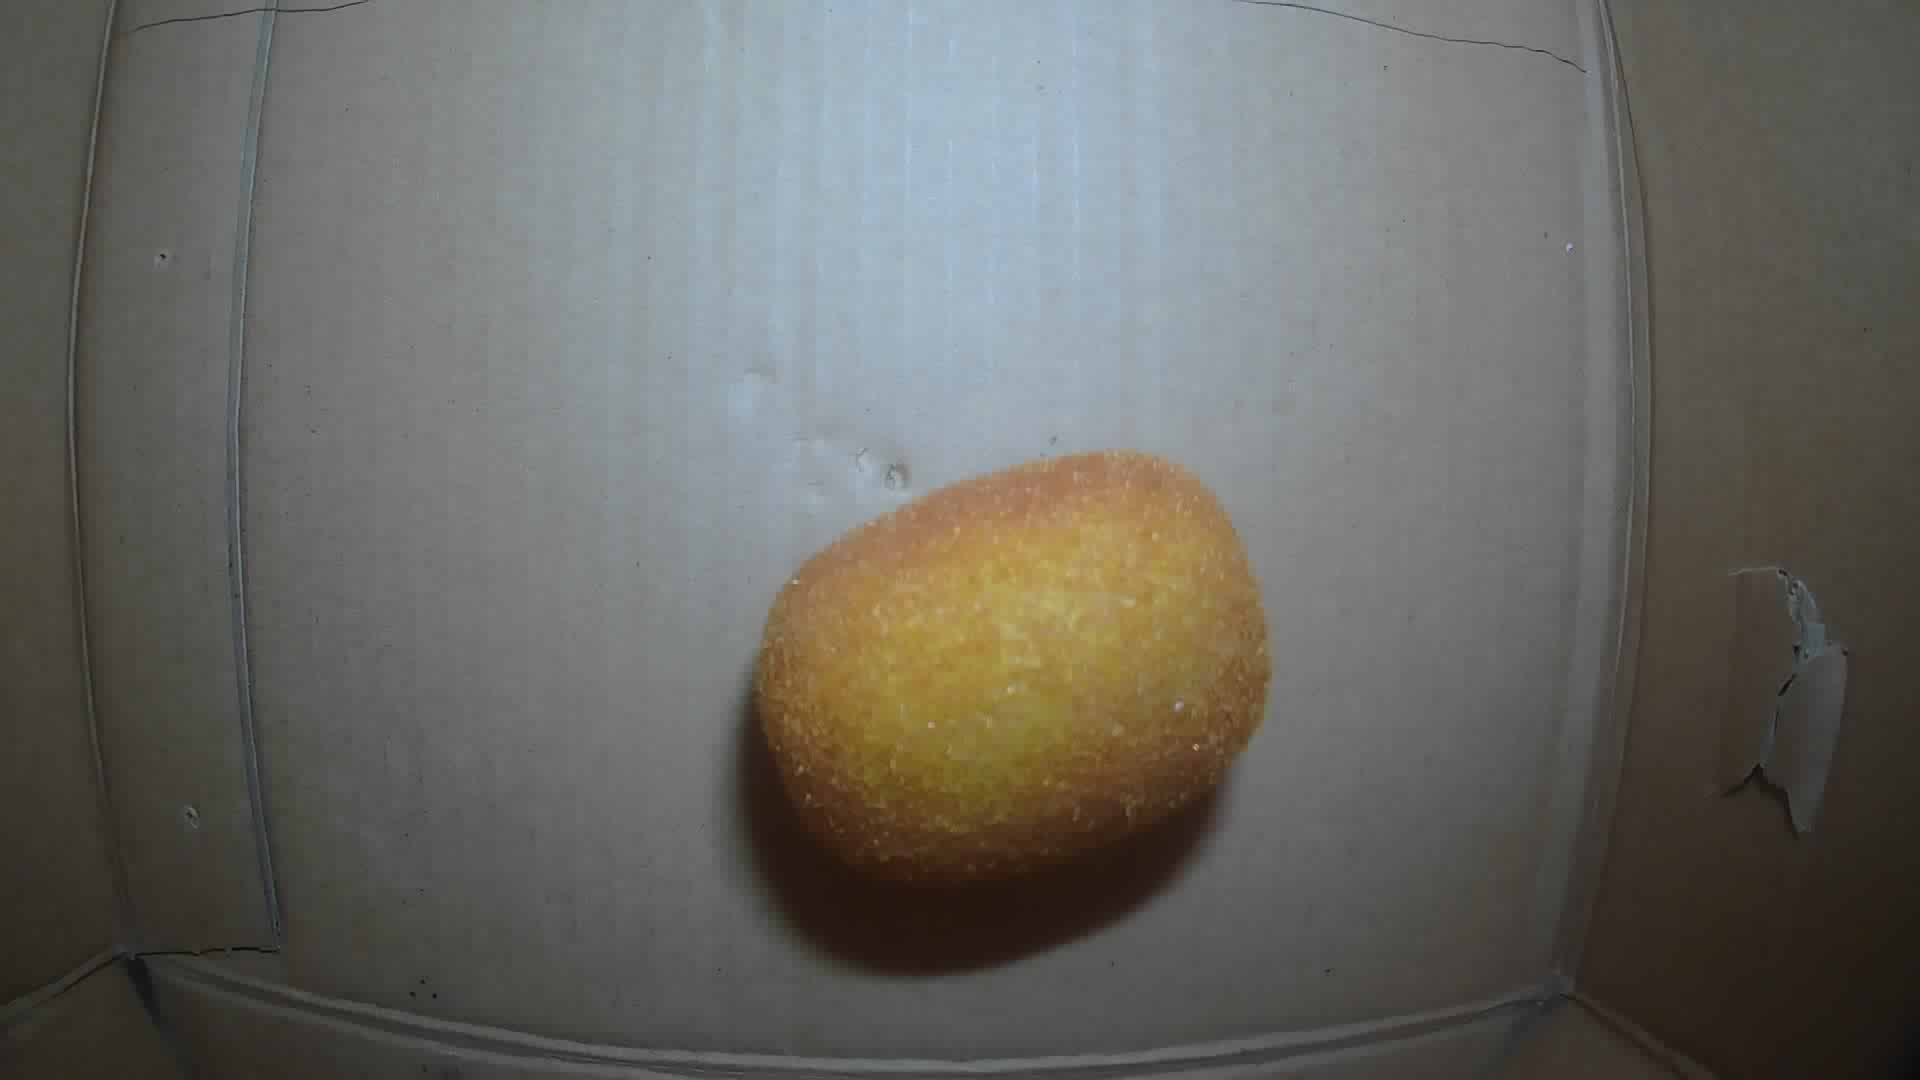kiwi: (742, 448, 1269, 884)
